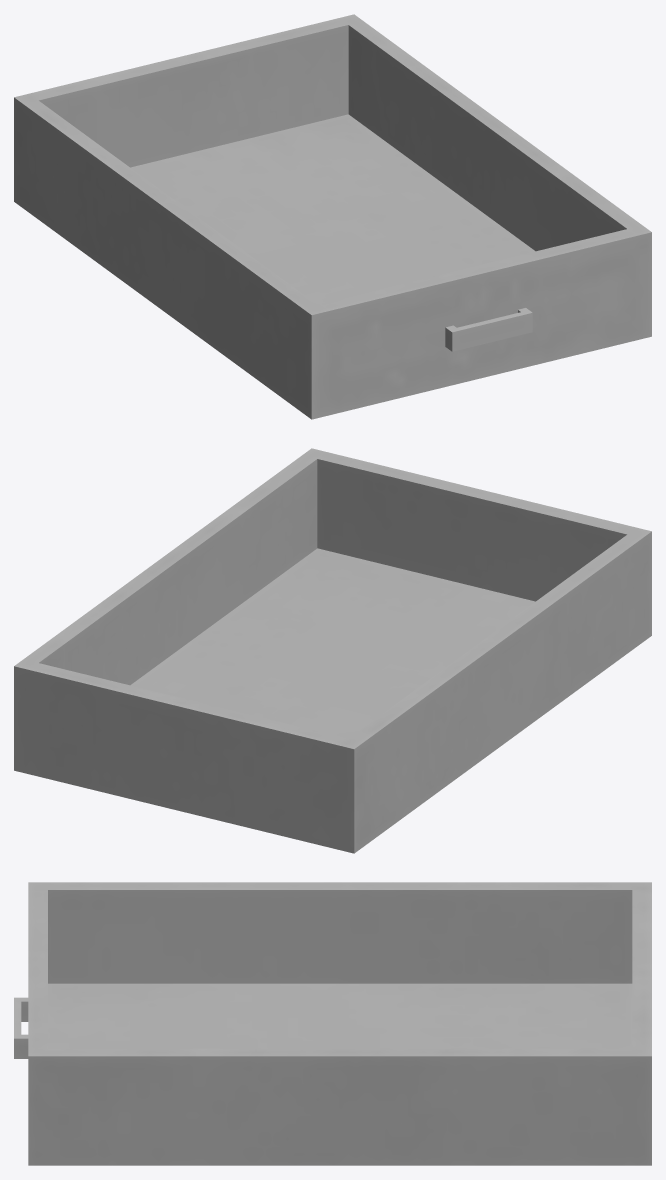
File: SM_Cabinet__7.fbx
The picture shows the model from 3 angles, top to bottom: view 1: azimuth 30°, elevation 25°; view 2: azimuth 150°, elevation 25°; view 3: azimuth 270°, elevation 25°; orthographic projection. The views are drawn at different scales.
Parts seen in each view (by area): view 1: Kitchen 4; view 2: Kitchen 4; view 3: Kitchen 4.
Part boxes in pixels (x1,y1,x2,y2): Kitchen 4: (14,14,651,419); Kitchen 4: (14,448,651,853); Kitchen 4: (14,882,651,1165).
Bounding box in the file's own units: 1.17 × 0.343 × 1.81.
1 material, 1 textured.
